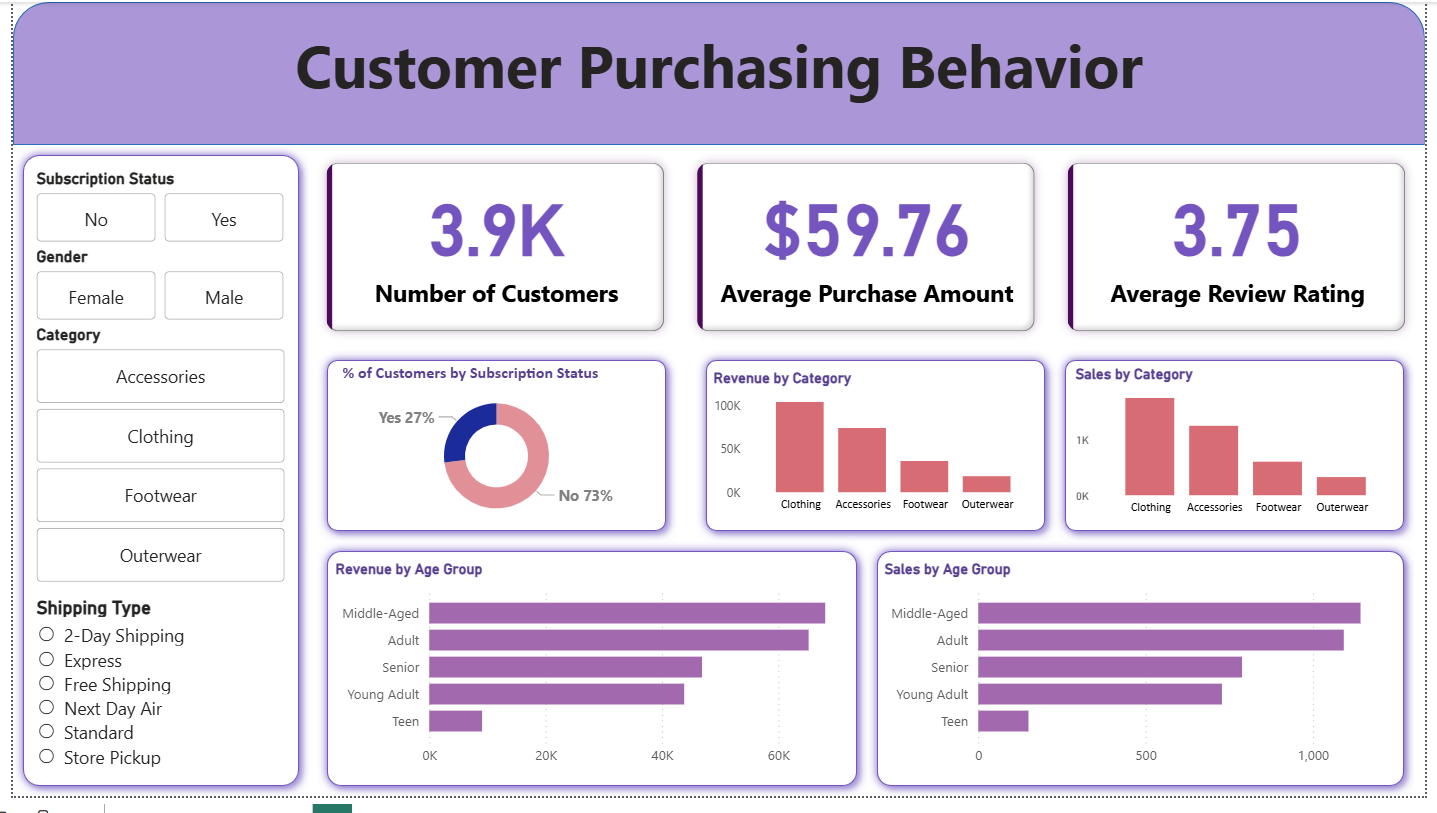

The dashboard page shown, as its layout file describes it:
{"tool":"powerbi","page":{"name":"Customer Purchasing Behavior","canvas":[1280,720],"ordinal":0},"visuals":[{"type":"cardVisual","fields":{"Data":["public customer_purchases.Number of Customers","public customer_purchases.Average_Purchase_Amount","public customer_purchases.Average_Review_Rating"]},"box":[268.4,129.7,1012,185.9],"z":0},{"type":"shape","box":[0,0,1280.4,129.7],"z":1000},{"type":"textbox","box":[0,15.4,1280.4,114.3],"z":2000},{"type":"shape","box":[275.7,315.6,325.5,173.2],"z":3000},{"type":"donutChart","title":"% of Customers by Subscription Status","fields":{"Category":["public customer_purchases.subscription_status"],"Y":["Count(public customer_purchases.customer_id)"]},"box":[293.8,327.4,289.3,150.5],"z":4000},{"type":"shape","box":[619.3,315.6,325.5,173.2],"z":5000},{"type":"clusteredColumnChart","title":"Revenue by Category","fields":{"Y":["Sum(public customer_purchases.purchase_amount_usd)"],"Category":["public customer_purchases.category"]},"box":[630.2,333.7,303.8,137.8],"z":6000},{"type":"shape","box":[944.9,315.6,325.5,173.2],"z":7000},{"type":"clusteredColumnChart","title":"Sales by Category","fields":{"Category":["public customer_purchases.category"],"Y":["Count(public customer_purchases.customer_id)"]},"box":[958.5,330.1,298.3,144.2],"z":8000},{"type":"shape","box":[0,129.7,268.4,590.3],"z":9000},{"type":"advancedSlicerVisual","title":"Subscription Status","fields":{"Values":["public customer_purchases.subscription_status"]},"box":[16.3,152.3,235.8,70.7],"z":10000},{"type":"advancedSlicerVisual","title":"Gender","fields":{"Values":["public customer_purchases.gender"]},"box":[16.3,223.1,235.8,70.7],"z":11000},{"type":"advancedSlicerVisual","title":"Category","fields":{"Values":["public customer_purchases.category"]},"box":[16.3,293.8,235.8,238.5],"z":12000},{"type":"listSlicer","title":"Shipping Type","fields":{"Values":["public customer_purchases.shipping_type"]},"box":[16.3,538.6,235.8,162.3],"z":13000},{"type":"shape","box":[275.7,488.8,498.7,231.2],"z":14000},{"type":"clusteredBarChart","title":"Revenue by Age Group","fields":{"Y":["Sum(public customer_purchases.purchase_amount_usd)"],"Category":["public customer_purchases.age_group"]},"box":[287.5,506.9,474.3,194.1],"z":15000},{"type":"shape","box":[774.4,488.8,496,231.2],"z":16000},{"type":"clusteredBarChart","title":"Sales by Age Group","fields":{"Category":["public customer_purchases.age_group"],"Y":["Count(public customer_purchases.customer_id)"]},"box":[785.3,506.9,474.3,194.1],"z":16001}]}

Visuals, with their boxes in screenshot pixels (x1, y1, x2, y2), scaled from the page's 1280x720 canvas onto the 1437x813 screenshot:
cardVisual - public customer_purchases.Number of Customers x public customer_purchases.Average_Purchase_Amount: rect(301, 146, 1436, 356)
shape: rect(0, 0, 1436, 146)
textbox: rect(0, 17, 1436, 146)
shape: rect(310, 356, 675, 552)
"% of Customers by Subscription Status" donutChart: rect(330, 370, 655, 540)
shape: rect(695, 356, 1061, 552)
"Revenue by Category" clusteredColumnChart: rect(707, 377, 1049, 532)
shape: rect(1061, 356, 1426, 552)
"Sales by Category" clusteredColumnChart: rect(1076, 373, 1411, 536)
shape: rect(0, 146, 301, 812)
"Subscription Status" advancedSlicerVisual: rect(18, 172, 283, 252)
"Gender" advancedSlicerVisual: rect(18, 252, 283, 332)
"Category" advancedSlicerVisual: rect(18, 332, 283, 601)
"Shipping Type" listSlicer: rect(18, 608, 283, 791)
shape: rect(310, 552, 869, 812)
"Revenue by Age Group" clusteredBarChart: rect(323, 572, 855, 792)
shape: rect(869, 552, 1426, 812)
"Sales by Age Group" clusteredBarChart: rect(882, 572, 1414, 792)
